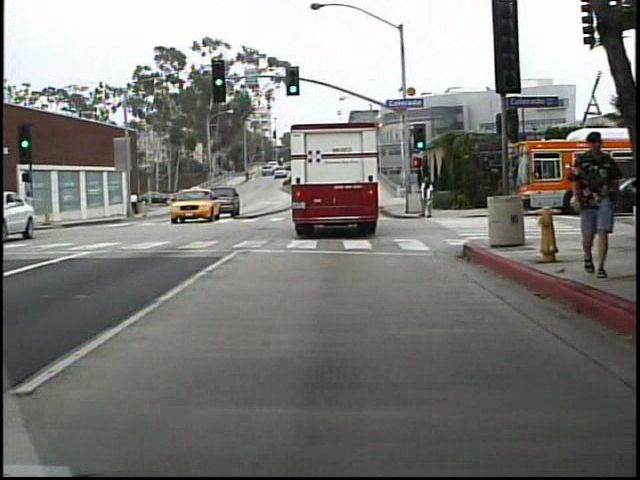person: (567, 126, 610, 286), (414, 176, 439, 222), (22, 189, 39, 231), (127, 187, 144, 220)
